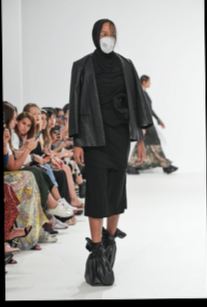with_mask: (98, 30, 117, 54)
without_mask: (17, 120, 32, 136), (7, 114, 18, 131), (30, 110, 41, 125), (40, 116, 48, 129), (47, 115, 55, 128), (58, 113, 65, 125), (146, 79, 151, 89)
